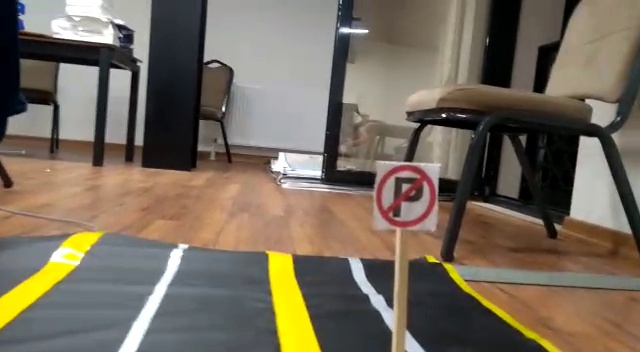park_yapilmaz: (374, 156, 441, 229)
